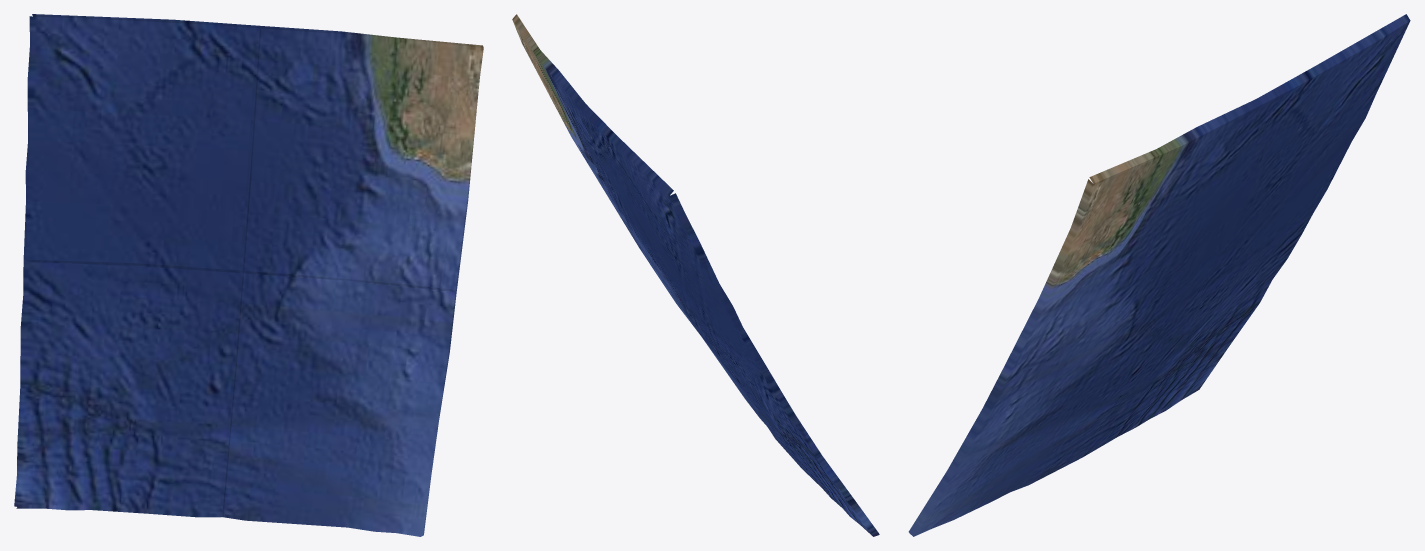
The picture shows the model from 3 angles, left to right: view 1: azimuth 30°, elevation 25°; view 2: azimuth 150°, elevation 25°; view 3: azimuth 270°, elevation 25°; orthographic projection. The views are drawn at different scales.
Bounding box in the file's own units: 1241246 × 1116342 × 1167295.
Materials: 1 (1 with a texture image).
